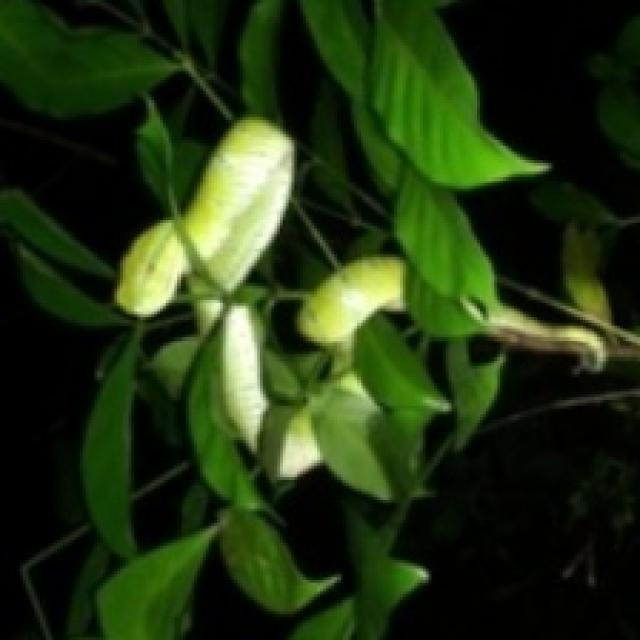north ph temple pitviper: (103, 117, 606, 520)
